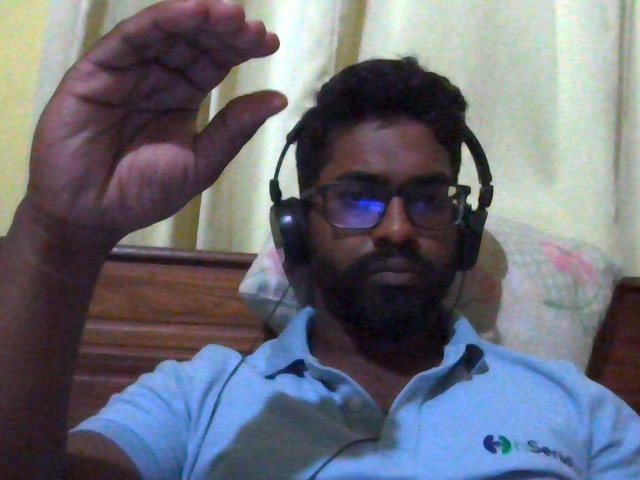No: (1, 1, 338, 245)
